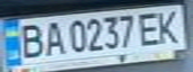0: (63, 17, 87, 54)
2: (84, 15, 106, 52)
3: (103, 13, 124, 51)
7: (115, 11, 139, 48)
A: (39, 19, 66, 56)
B: (12, 21, 48, 60)
E: (136, 9, 163, 47)
K: (154, 7, 187, 44)
